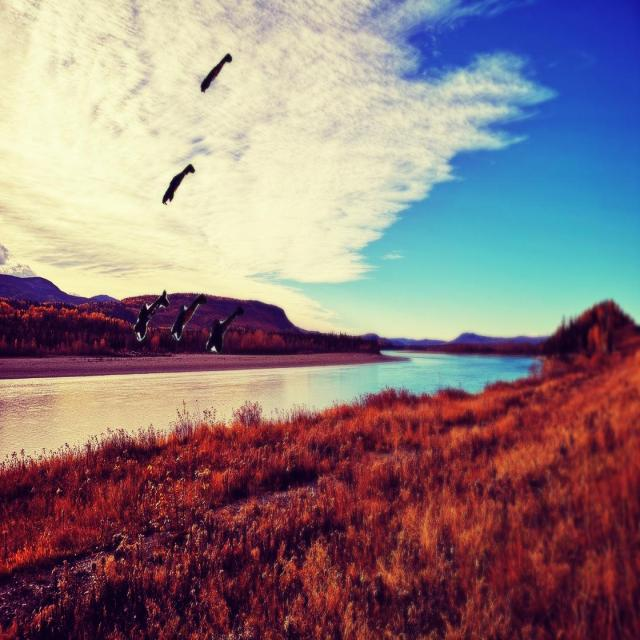airplane: (159, 159, 198, 210), (132, 290, 170, 342), (205, 305, 239, 353), (199, 48, 233, 92), (172, 294, 203, 341)
